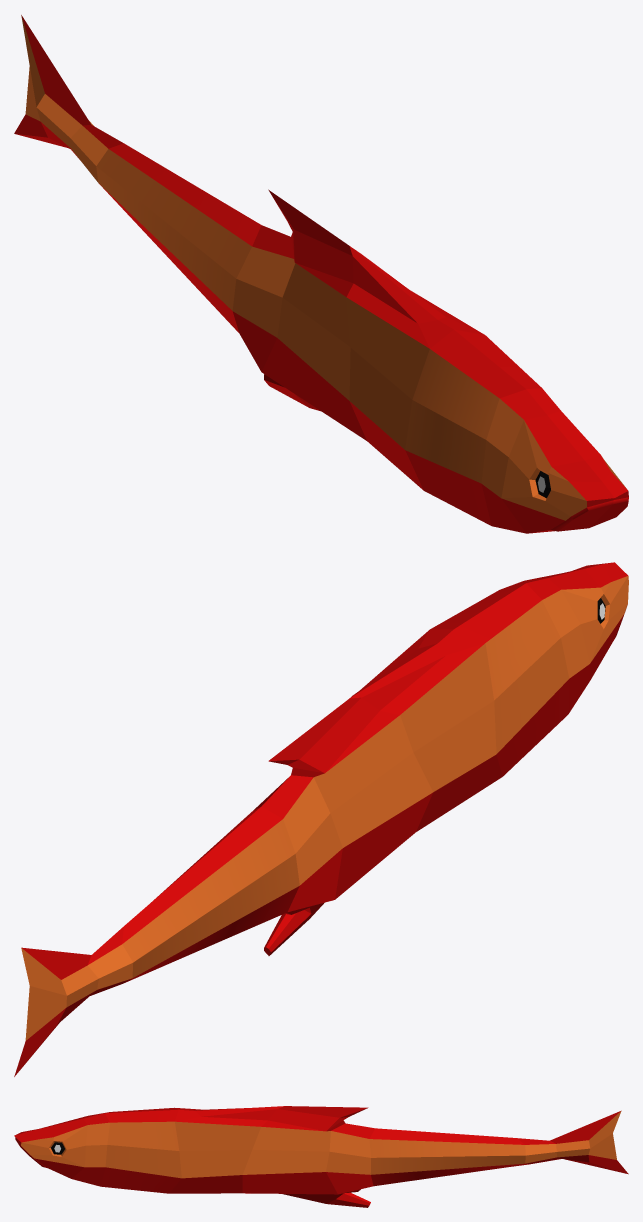
Rendered from Fish-3.fbx.
3 views of the same model, one above another, from view 1: azimuth 30°, elevation 25°; view 2: azimuth 150°, elevation 25°; view 3: azimuth 270°, elevation 25° (orthographic). The views are drawn at different scales.
Visible parts, largest first — view 1: Fish-3; view 2: Fish-3; view 3: Fish-3.
Boxes of the visible parts, x1,y1,x2,y2 form: Fish-3: [14, 15, 628, 533]; Fish-3: [14, 562, 628, 1076]; Fish-3: [14, 1106, 628, 1207].
Size of the model in its own units: 0.0762 by 0.1587 by 0.868.
